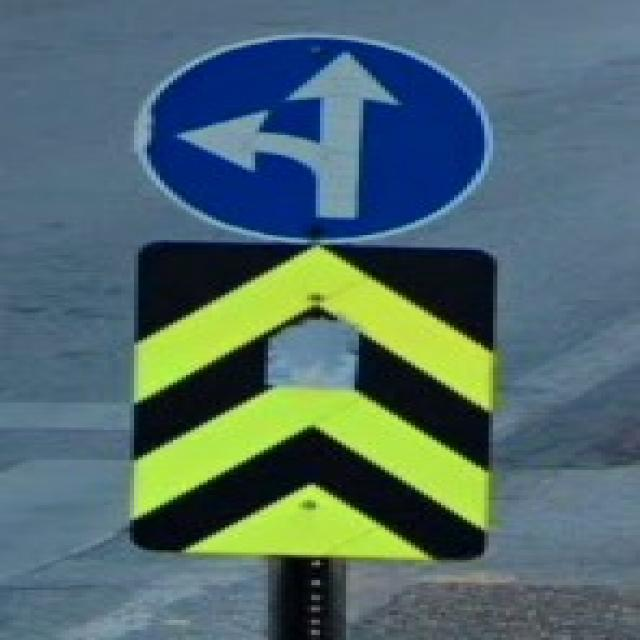Straight or Left: (133, 36, 492, 244)
